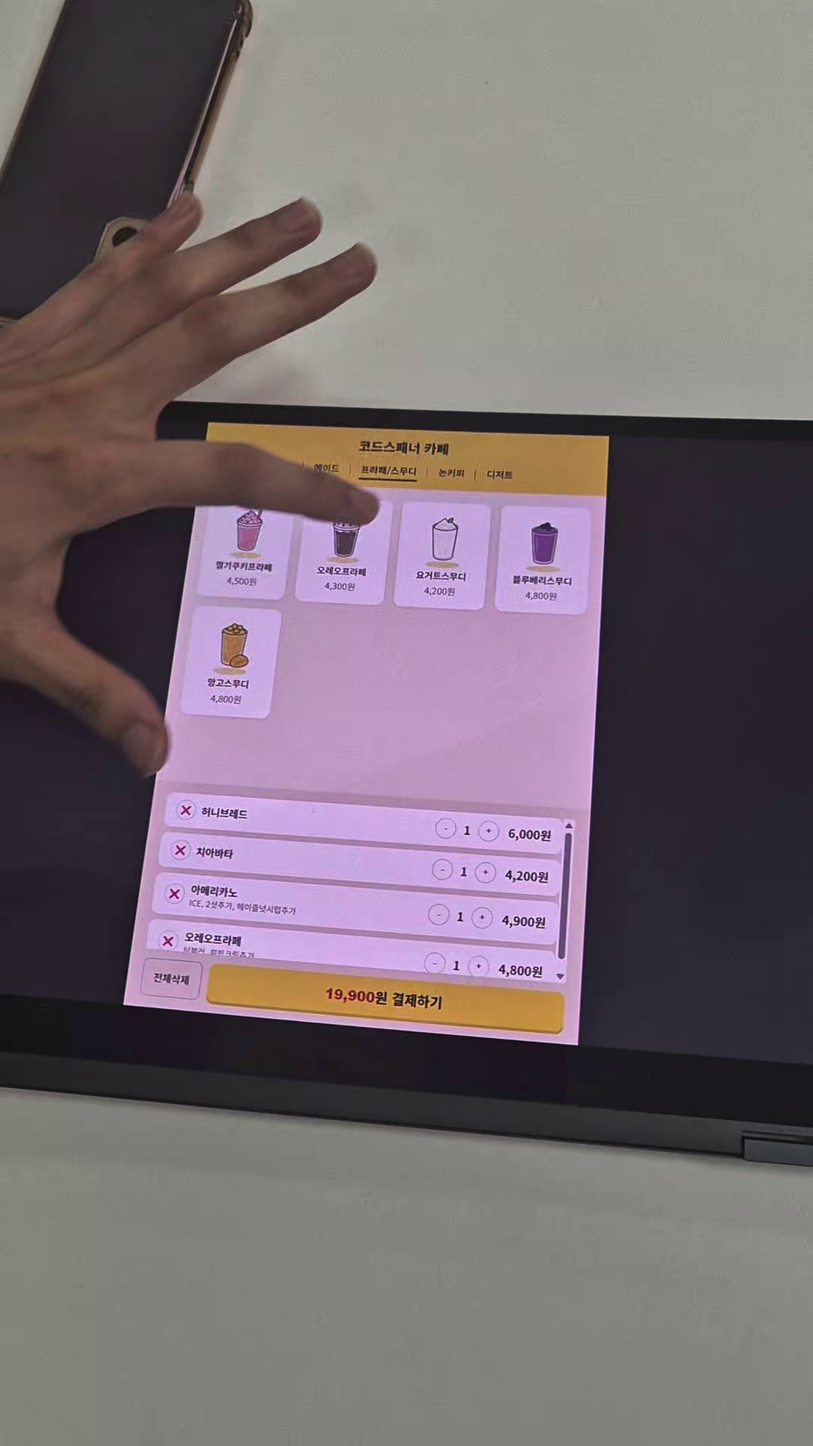action_button: (206, 964, 565, 1034), (140, 957, 202, 999)
category_tab: (152, 872, 559, 949), (145, 920, 552, 988), (159, 833, 562, 899), (164, 792, 562, 855), (358, 464, 417, 478), (310, 462, 342, 476), (483, 469, 515, 482), (436, 466, 468, 479)
menu_back: (177, 605, 281, 719), (192, 487, 293, 600), (392, 500, 493, 612), (293, 493, 394, 605), (494, 504, 593, 614)
menu_name: (213, 560, 272, 575), (512, 574, 574, 588), (414, 569, 467, 583), (317, 566, 367, 578), (206, 677, 250, 690)
menu_price: (225, 576, 258, 587), (423, 587, 456, 598), (524, 591, 557, 602), (209, 694, 242, 705), (324, 582, 356, 593)
